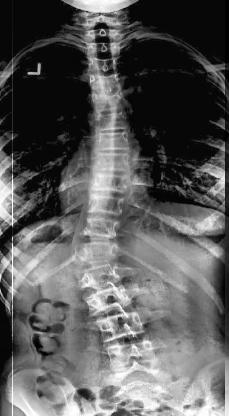Vertebrae: (106, 340, 160, 370), (98, 310, 144, 344), (83, 286, 131, 316), (76, 263, 120, 291), (72, 242, 118, 264), (78, 217, 120, 240), (82, 54, 122, 78), (86, 193, 126, 217), (88, 75, 124, 99), (91, 173, 131, 194), (95, 152, 131, 174), (95, 132, 134, 152), (86, 40, 122, 60), (88, 96, 128, 114), (93, 112, 131, 130)
